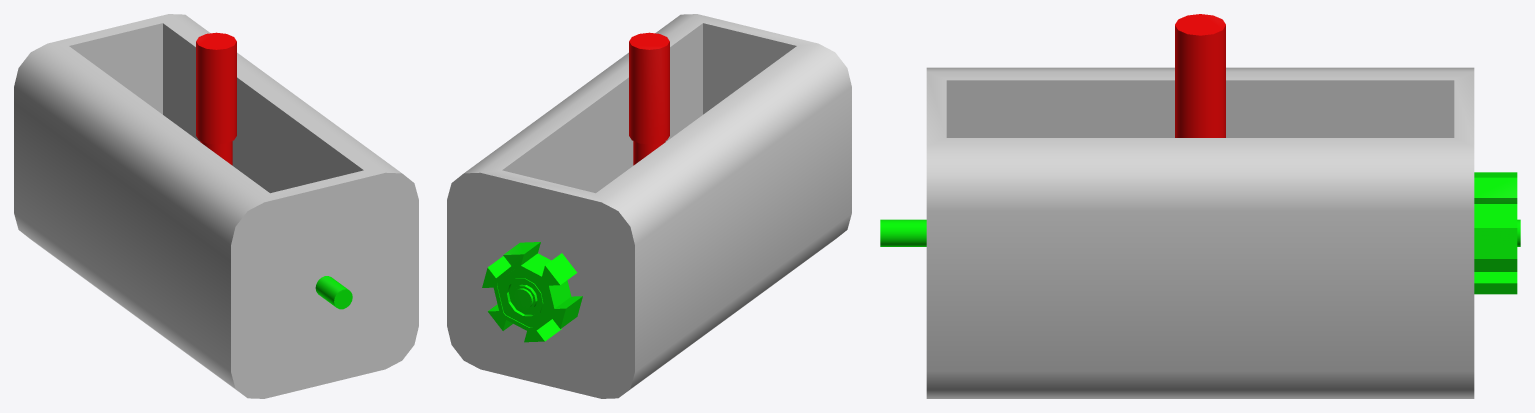
File: engine.fbx
3 views of the same model, side by side, from view 1: azimuth 30°, elevation 25°; view 2: azimuth 150°, elevation 25°; view 3: azimuth 270°, elevation 25° (orthographic). The views are drawn at different scales.
Parts seen in each view (by area): view 1: Cube, Cylinder.003, Cylinder; view 2: Cube, Cylinder.004, Cylinder.003; view 3: Cube, Cylinder.003, Cylinder.004, Cylinder.
Part boxes in pixels (left/top/right/bottom): Cube: left=14, top=14, right=418, bottom=398; Cylinder.003: left=196, top=32, right=236, bottom=165; Cylinder: left=315, top=276, right=352, bottom=309; Cube: left=447, top=14, right=851, bottom=398; Cylinder.004: left=482, top=242, right=582, bottom=342; Cylinder.003: left=629, top=32, right=669, bottom=165; Cube: left=926, top=67, right=1474, bottom=398; Cylinder.003: left=1175, top=14, right=1225, bottom=137; Cylinder.004: left=1474, top=172, right=1517, bottom=294; Cylinder: left=880, top=219, right=1520, bottom=246.
Size of the model in its own units: 200 by 268 by 468.
